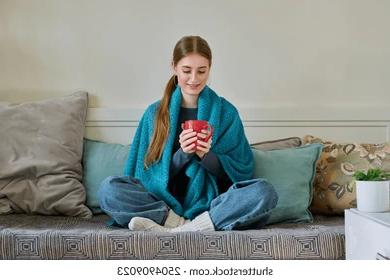blanket: (121, 84, 256, 221)
trousers: (97, 175, 279, 234)
